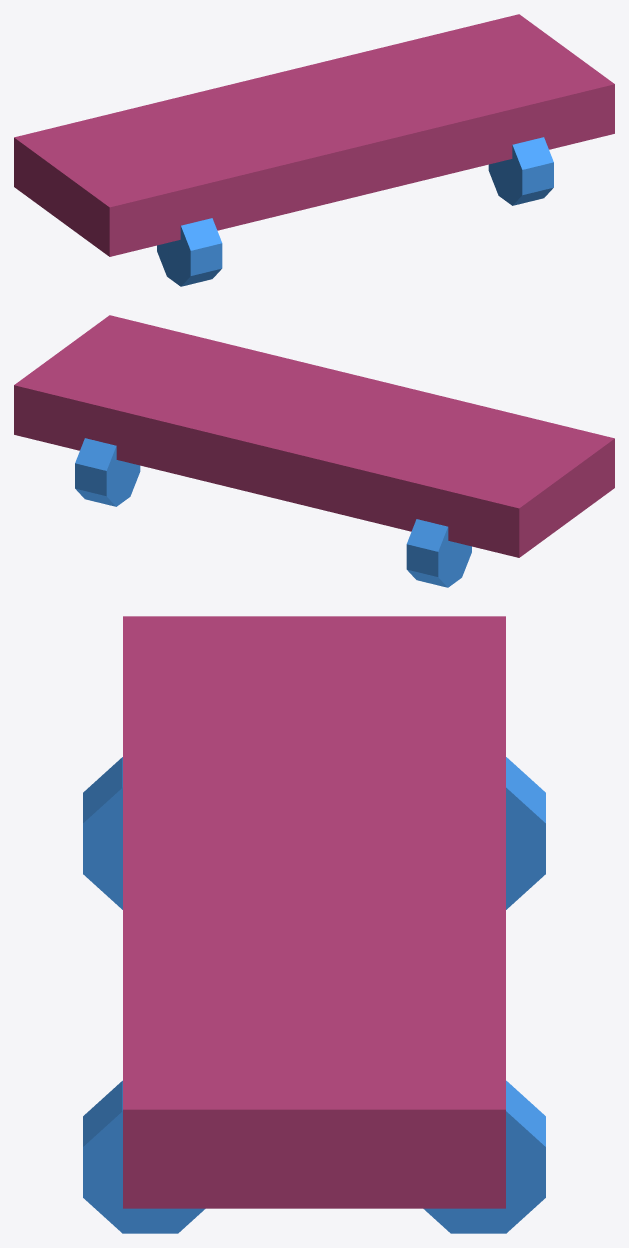
The model's file is skateboard.obj.
The picture shows the model from 3 angles, top to bottom: view 1: azimuth 30°, elevation 25°; view 2: azimuth 150°, elevation 25°; view 3: azimuth 270°, elevation 25°; orthographic projection. The views are drawn at different scales.
Visible parts, largest first — view 1: chunky-skate-deck, wheel-0-42-0-18; view 2: chunky-skate-deck, wheel-0-42-0-18; view 3: chunky-skate-deck, wheel-0-42-0-18.
Part boxes in pixels (bbox=[...]): chunky-skate-deck: bbox=[14, 14, 614, 256]; wheel-0-42-0-18: bbox=[157, 137, 553, 286]; chunky-skate-deck: bbox=[14, 315, 614, 557]; wheel-0-42-0-18: bbox=[75, 438, 471, 587]; chunky-skate-deck: bbox=[123, 616, 505, 1208]; wheel-0-42-0-18: bbox=[83, 757, 545, 1233].
Size of the model in its own units: 1.28 by 0.2339 by 0.5078.
